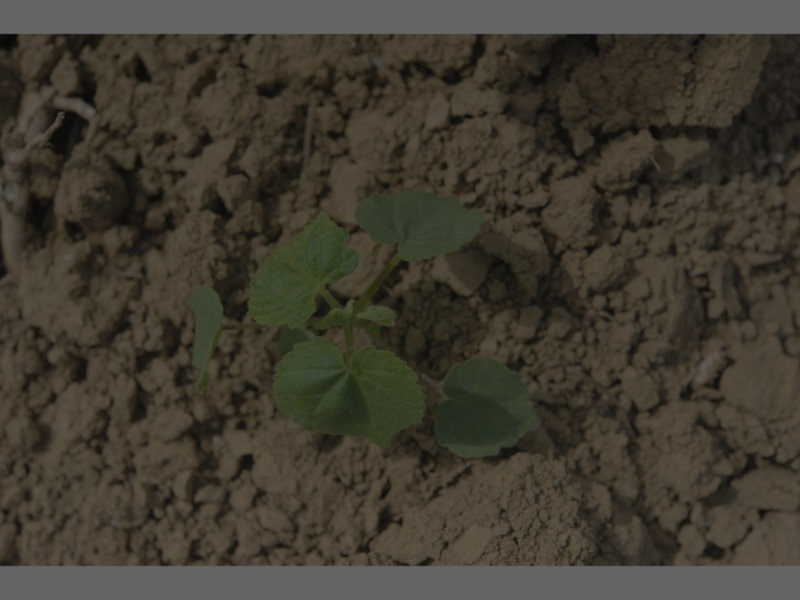velvet: (191, 186, 541, 458)
